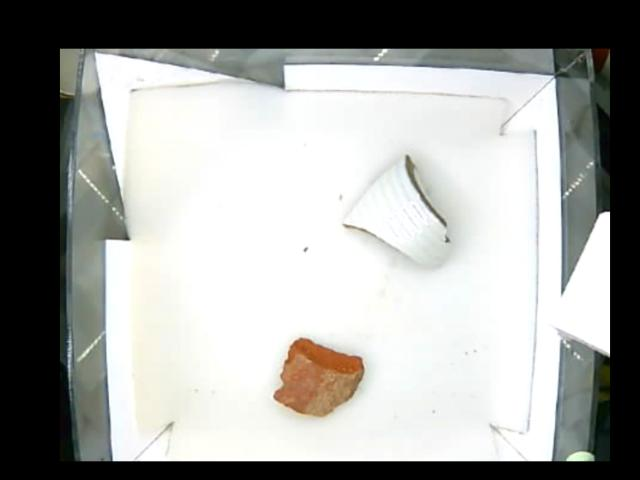Brisk: (273, 332, 365, 419)
China: (341, 156, 452, 267)
